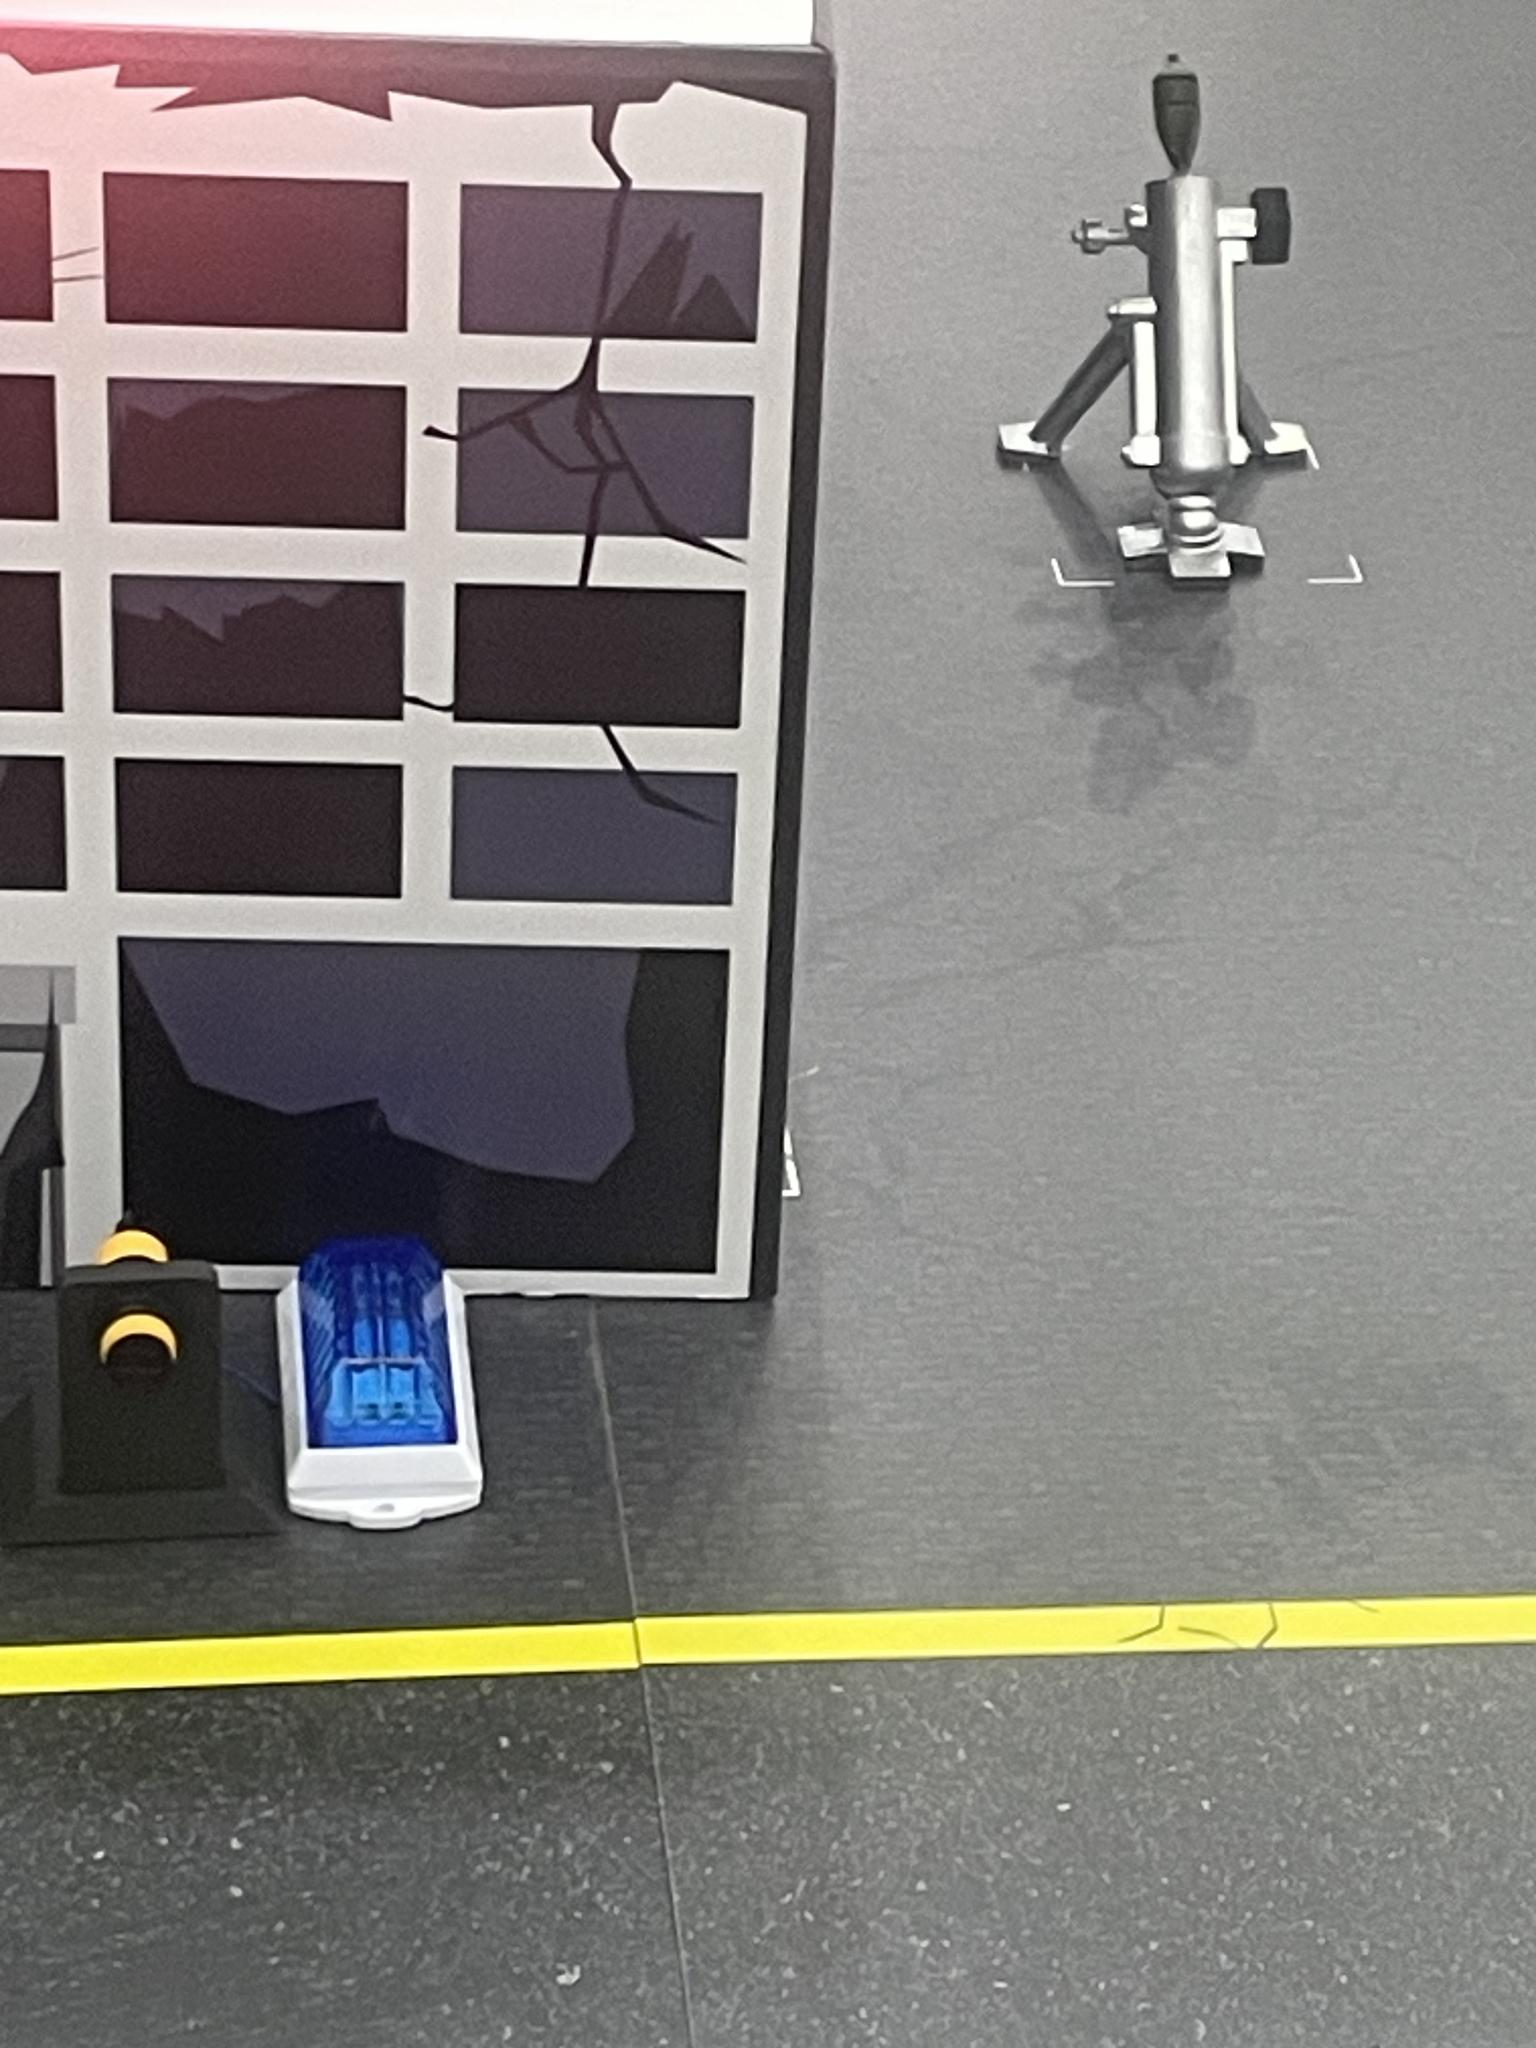Mortar: (1000, 58, 1313, 592)
